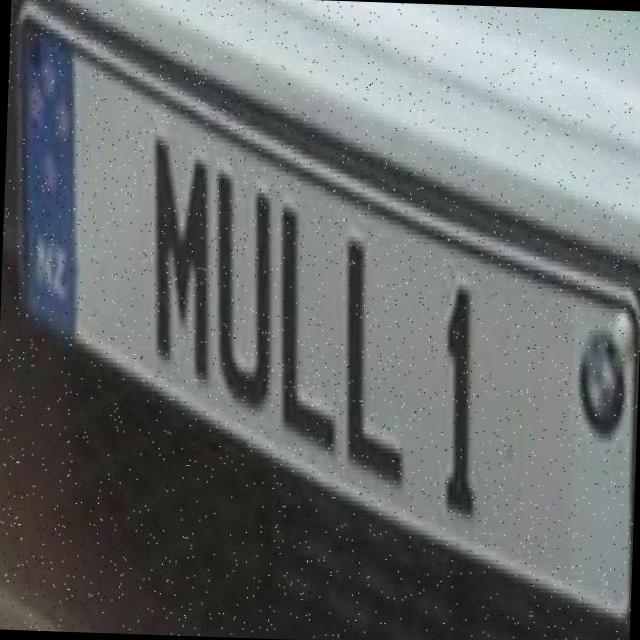license_plate: (0, 0, 639, 628)
